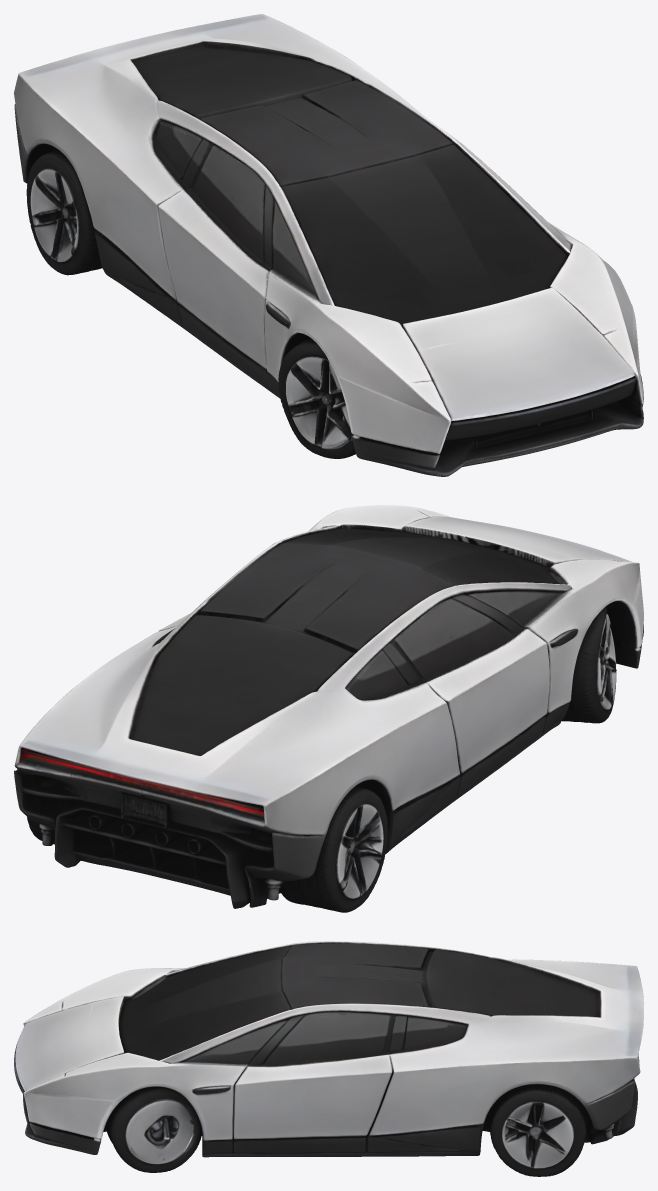
File: source.glb
The picture shows the model from 3 angles, top to bottom: view 1: azimuth 30°, elevation 25°; view 2: azimuth 150°, elevation 25°; view 3: azimuth 270°, elevation 25°; orthographic projection. The views are drawn at different scales.
Visible parts, largest first — view 1: model; view 2: model; view 3: model.
Part boxes in pixels (<box>): model: <box>14,14,643,476</box>; model: <box>14,505,643,912</box>; model: <box>14,941,643,1176</box>.
Size of the model in its own units: 0.8251 by 0.5017 by 1.9.
1 material, 1 textured.
